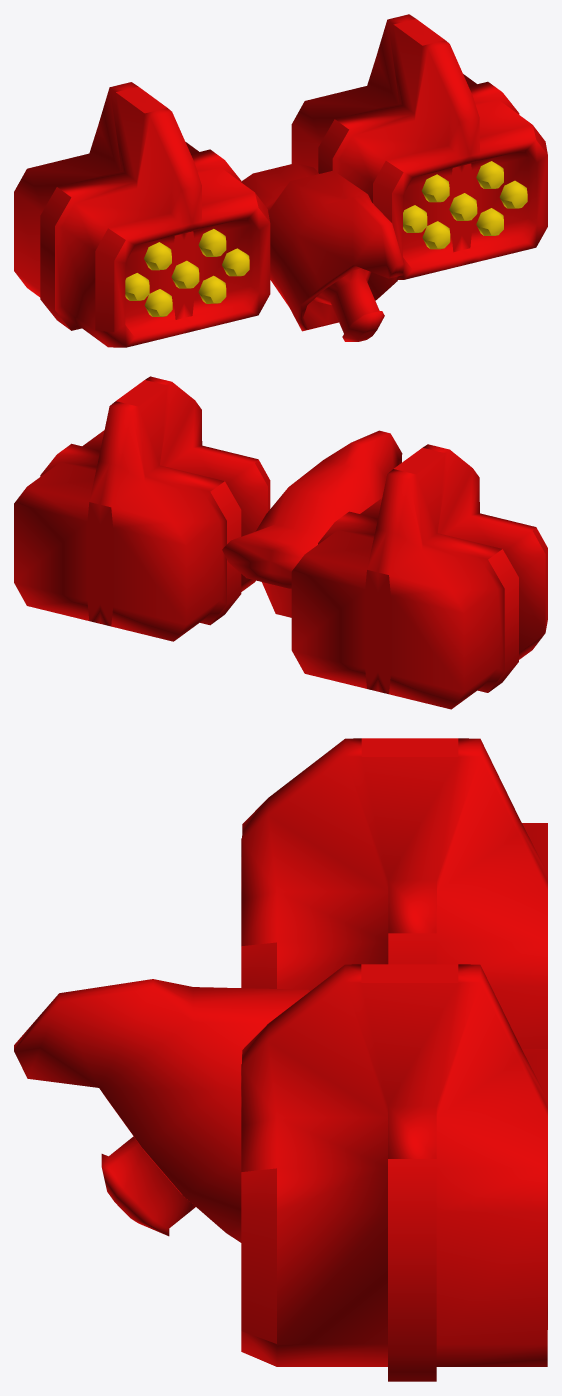
File: Droid_whole.fbx
3 renders of one model, top to bottom at view 1: azimuth 30°, elevation 25°; view 2: azimuth 150°, elevation 25°; view 3: azimuth 270°, elevation 25°, orthographic. The views are drawn at different scales.
Visible parts, largest first — view 1: Object024, Object001, Box175, Rockets10, Rockets5, Rockets4, Rockets12, Rockets3, Rockets2, Rockets6, Rockets, Rockets8 (+5 smaller); view 2: Object024, Object001, Box175; view 3: Object001, Object024, Box175.
Part boxes in pixels (bbox=[...]): Object024: bbox=[14, 82, 270, 347]; Object001: bbox=[291, 14, 547, 279]; Box175: bbox=[241, 163, 403, 341]; Rockets10: bbox=[422, 221, 450, 249]; Rockets5: bbox=[222, 248, 249, 276]; Rockets4: bbox=[198, 275, 226, 303]; Rockets12: bbox=[499, 180, 527, 208]; Rockets3: bbox=[171, 260, 199, 288]; Rockets2: bbox=[144, 289, 172, 316]; Rockets6: bbox=[198, 229, 226, 256]; Rockets: bbox=[144, 242, 171, 270]; Rockets8: bbox=[421, 174, 449, 202]; Object024: bbox=[291, 444, 547, 709]; Object001: bbox=[14, 376, 270, 641]; Box175: bbox=[222, 430, 402, 617]; Object001: bbox=[241, 964, 547, 1381]; Object024: bbox=[241, 738, 547, 1048]; Box175: bbox=[14, 979, 309, 1242].
Bounding box in the file's own units: 121 × 57.17 × 72.4.
